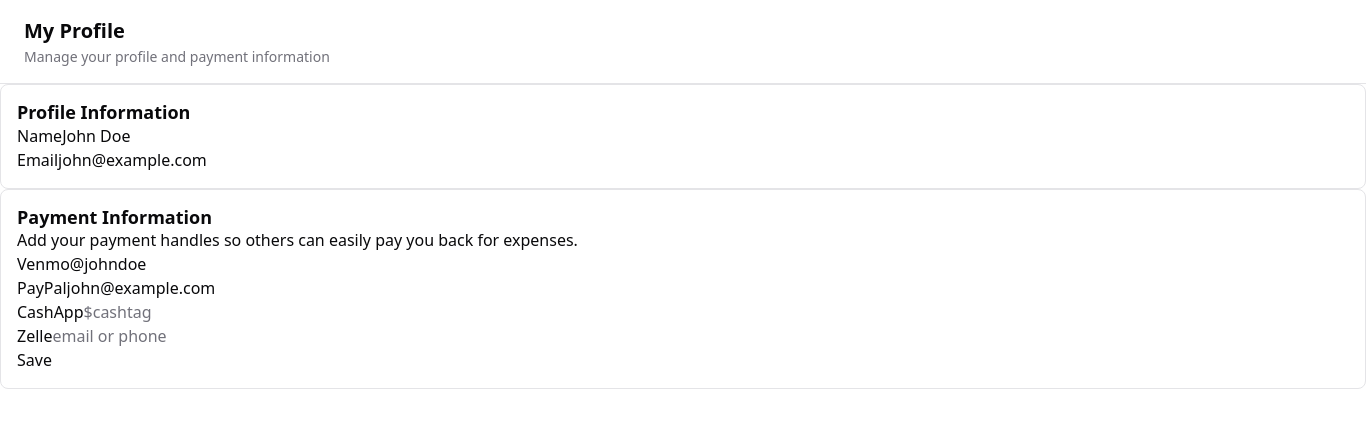
ProfilePage › updating payment handles › should show error message when save fails
The width and height of the screenshot is (1366, 430).
Step 1. Click the button "Save" → {"x": 34, "y": 360}, box [17,348,52,372]
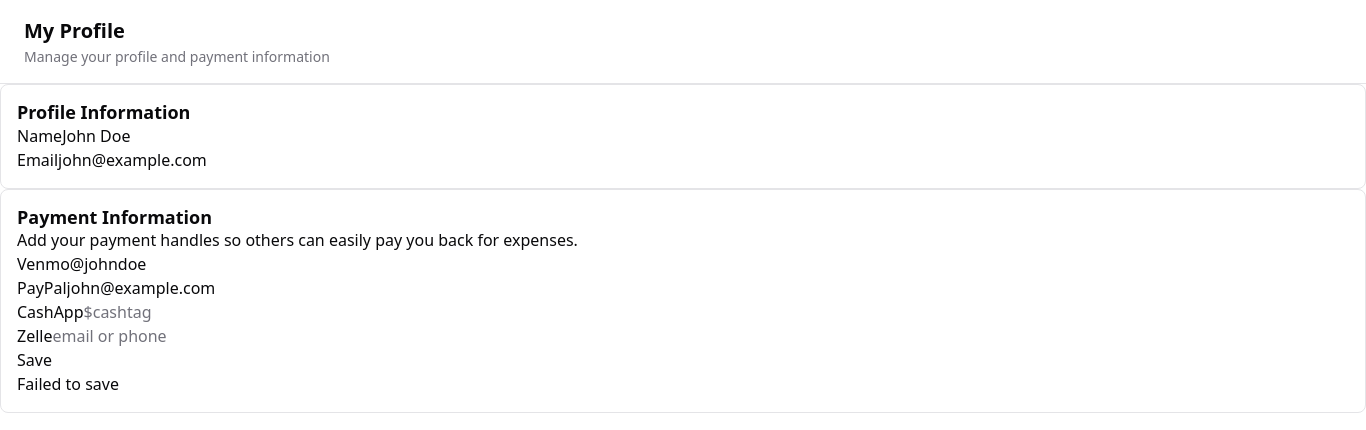
Expected: the message "Failed to save" is shown, [17,373,119,395]
